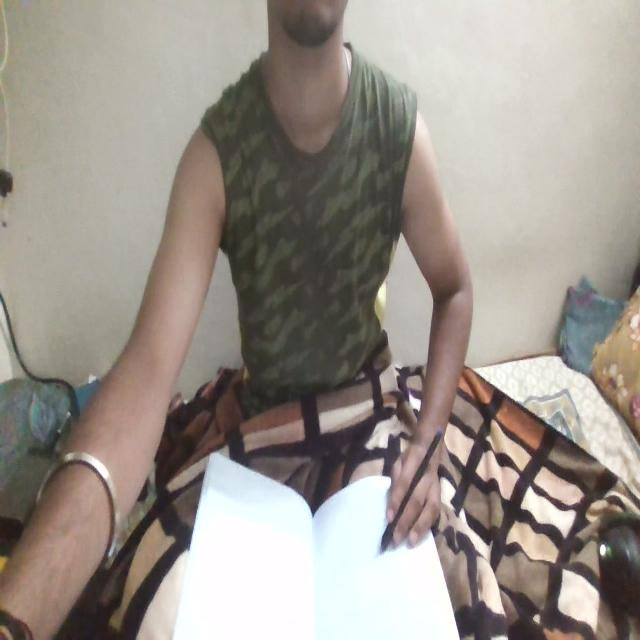pen: (377, 432, 444, 555)
